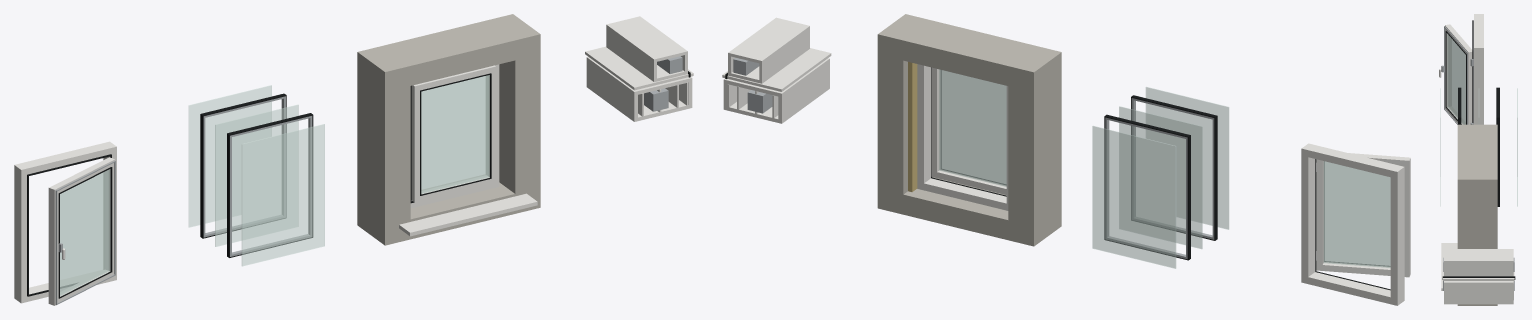
File: window-inside.glb
3 renders of one model, left to right at view 1: azimuth 30°, elevation 25°; view 2: azimuth 150°, elevation 25°; view 3: azimuth 270°, elevation 25°, orthographic. The views are drawn at different scales.
Visible parts, largest first — view 1: Стекло, Стена, Белый ПВХ, Сталь, Уплотнитель; view 2: Стекло, Стена, Белый ПВХ, Сталь, Уплотнитель, Монтажный шов; view 3: Белый ПВХ, Стена, Стекло, Уплотнитель, Сталь.
Part boxes in pixels (<box>): Стекло: <box>60,75,489,296</box>; Стена: <box>357,14,540,245</box>; Белый ПВХ: <box>14,16,693,305</box>; Сталь: <box>55,56,682,304</box>; Уплотнитель: <box>27,71,690,298</box>; Стекло: <box>939,69,1390,268</box>; Стена: <box>877,14,1061,246</box>; Белый ПВХ: <box>722,17,1410,305</box>; Сталь: <box>733,57,1316,260</box>; Уплотнитель: <box>725,67,1390,290</box>; Монтажный шов: <box>908,62,917,191</box>; Белый ПВХ: <box>1439,14,1514,304</box>; Стена: <box>1457,124,1497,305</box>; Стекло: <box>1440,33,1517,206</box>; Уплотнитель: <box>1442,20,1515,279</box>; Сталь: <box>1441,26,1514,290</box>.
Size of the model in its own units: 10.22 by 2.6 by 1.47.
